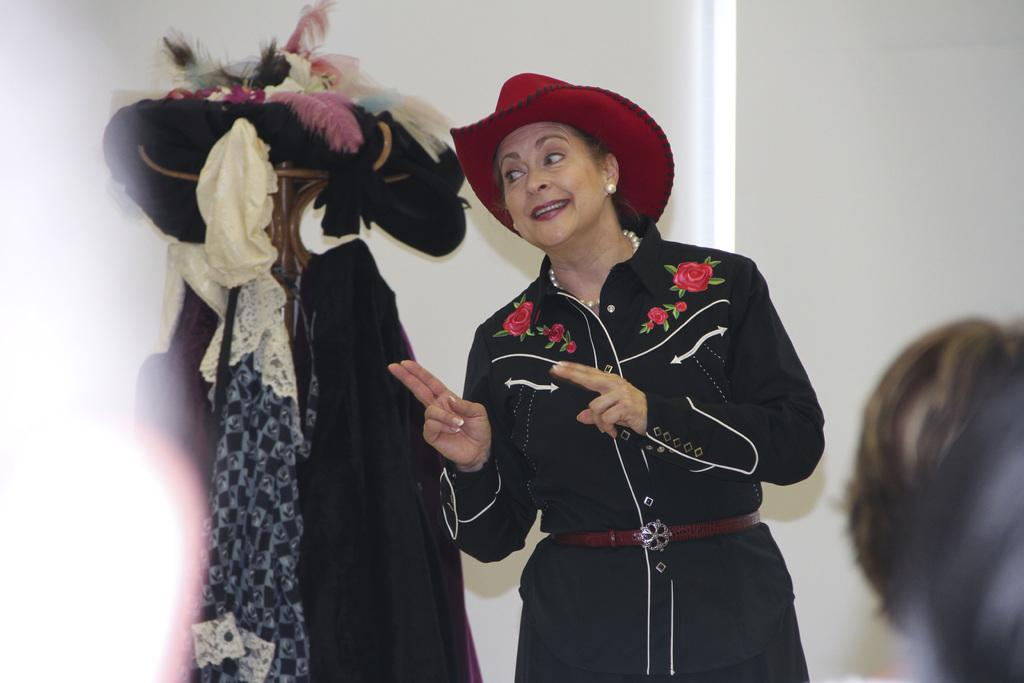Hat: (98, 3, 467, 261), (458, 70, 670, 217)
